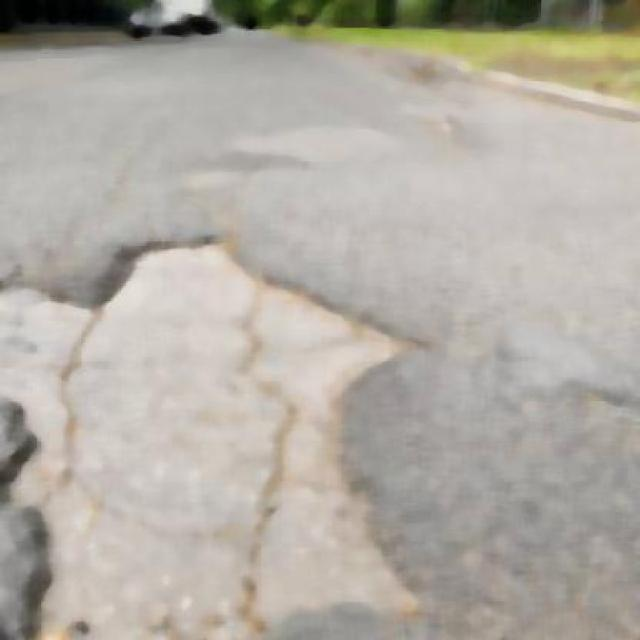Pothole: (0, 262, 394, 638)
